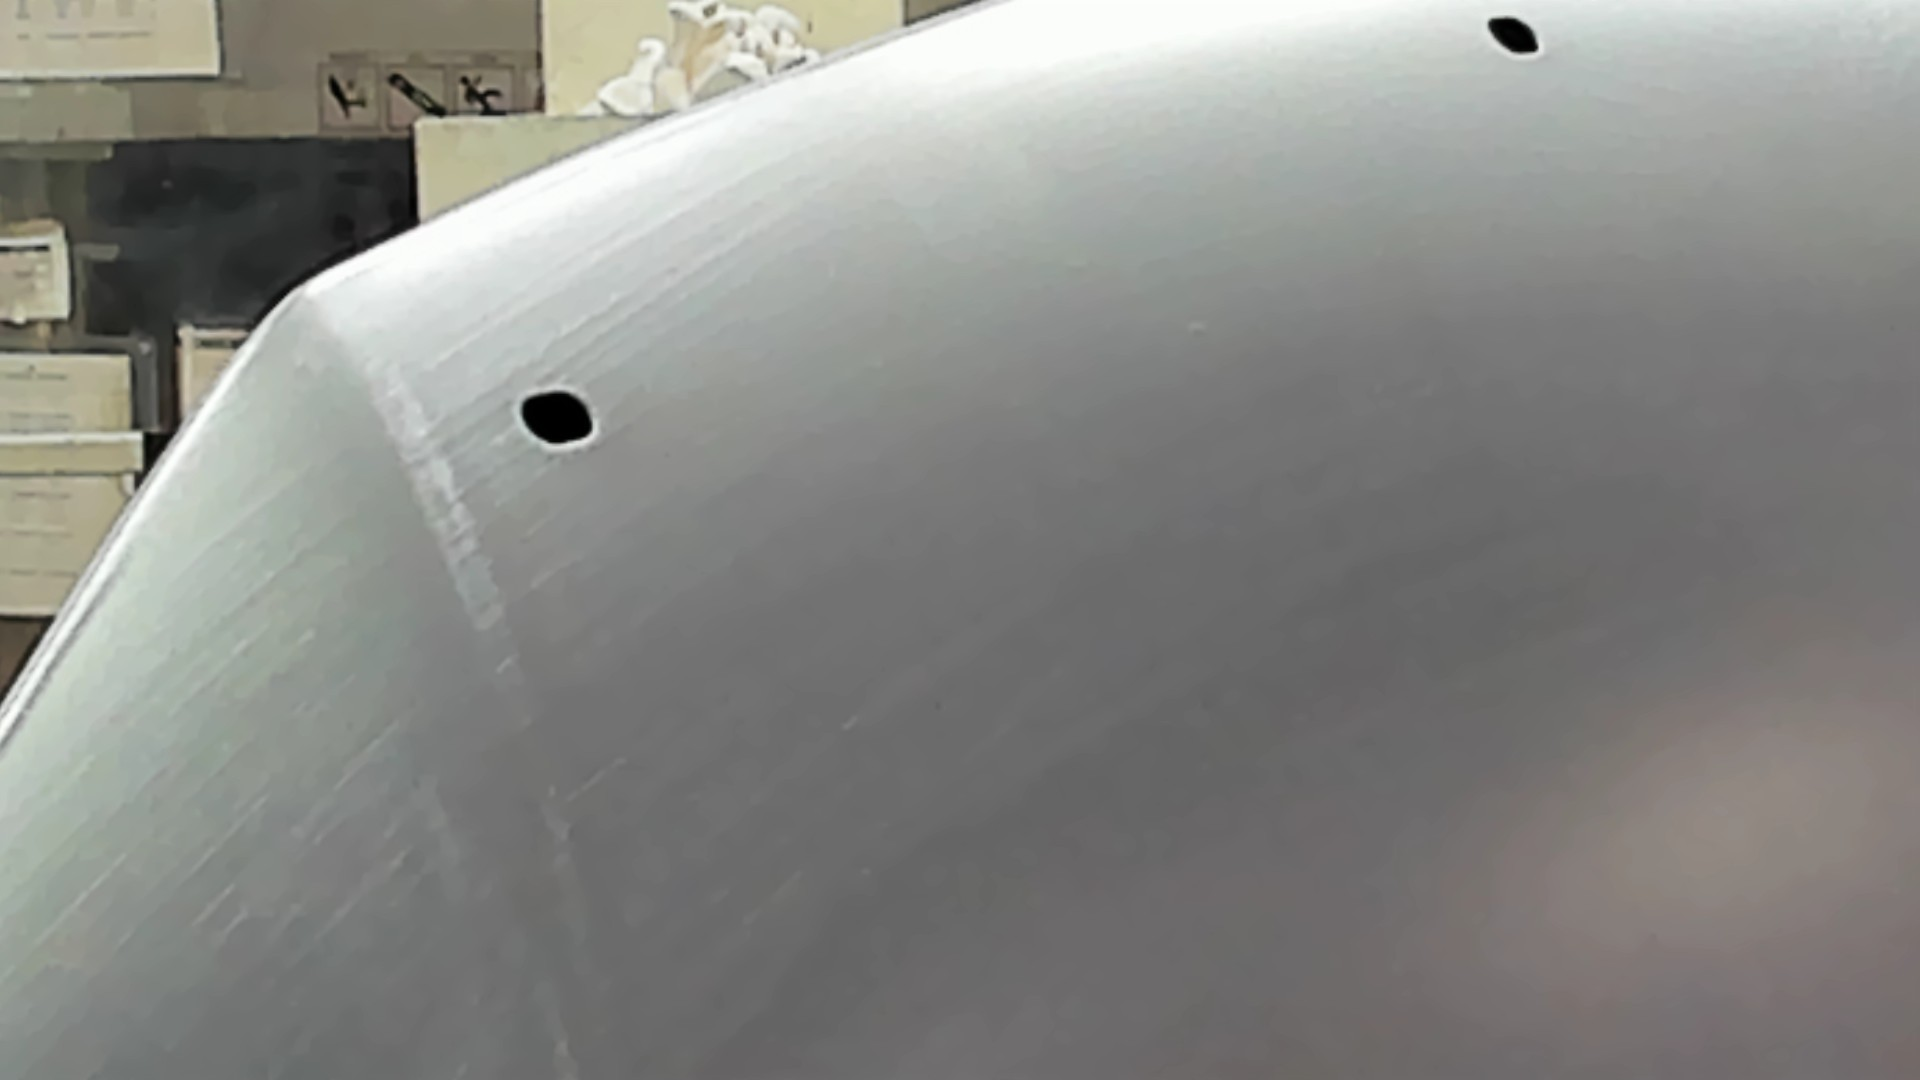amorfo: (512, 385, 605, 454), (1476, 11, 1555, 69)
capo: (775, 102, 1920, 1080)
